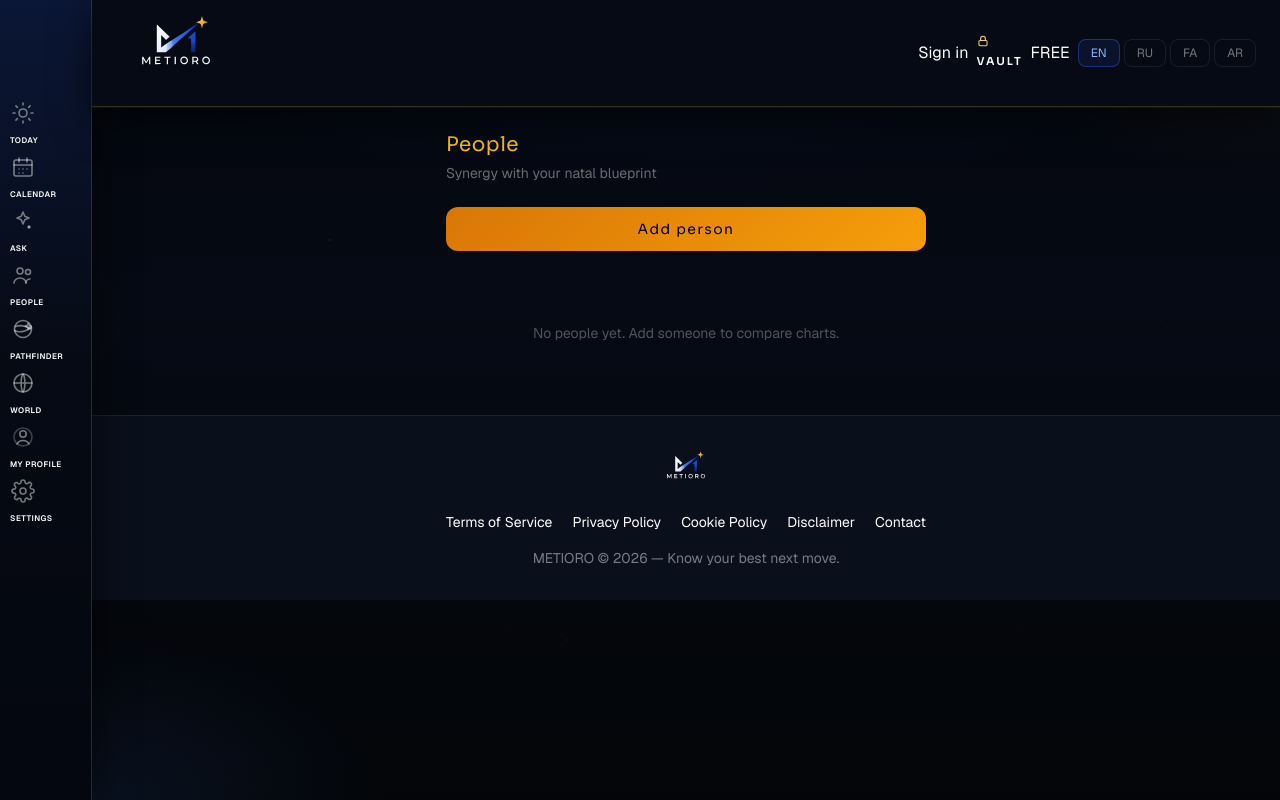
Test: People input integrity › keeps a cleared date as a validation error and does not save 1990-01-15
Click the button "Add person".
click(686, 229)  # box [446,207,926,251]
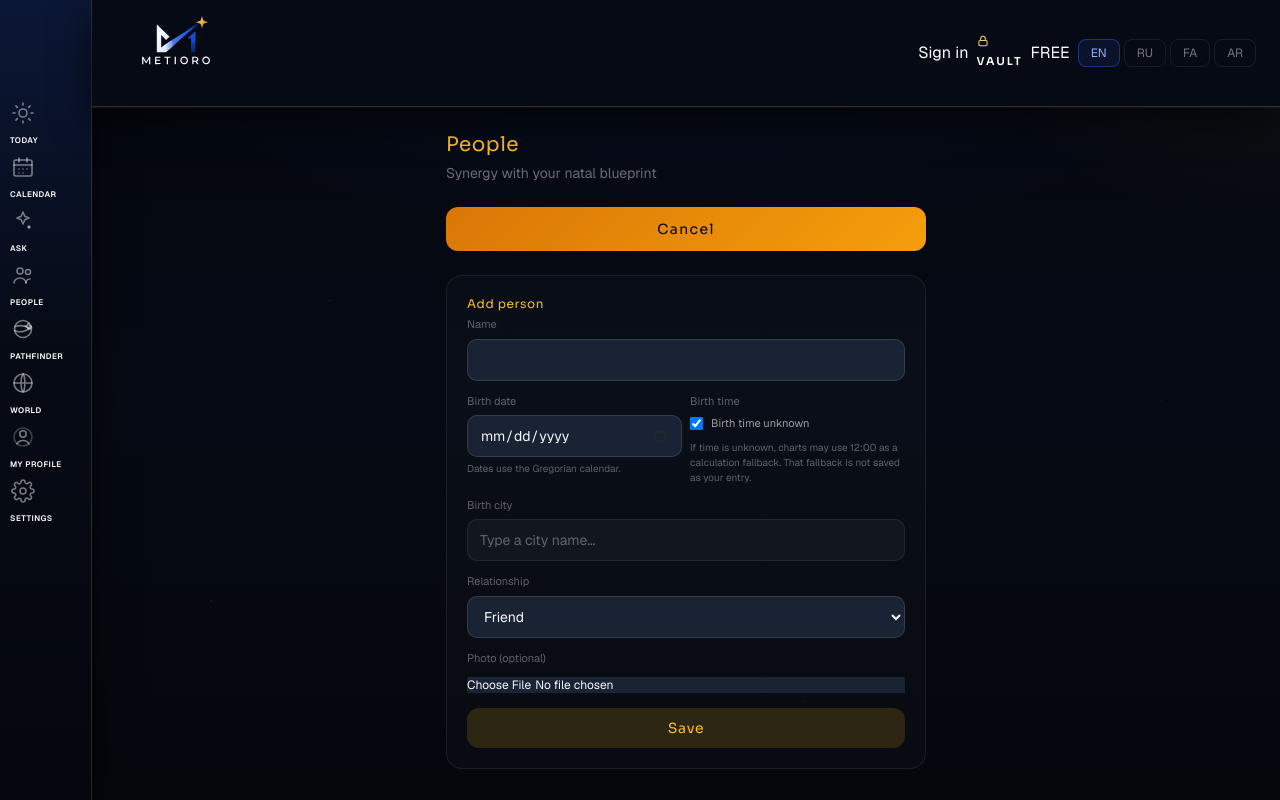
Type "Ada" into the field labelled "Name".
click(686, 360); type("Ada")  # box [467,338,905,380]
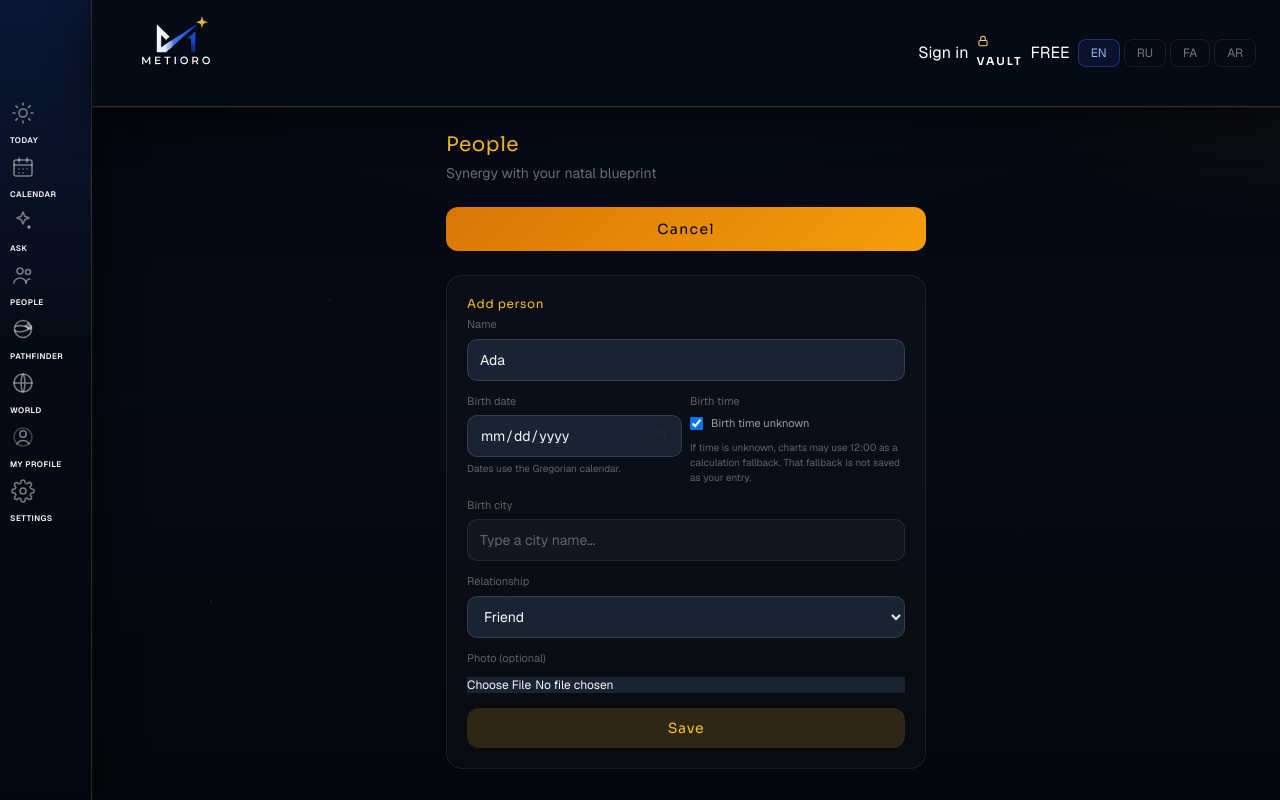
Type "London" into the dropdown with placeholder "Type a city name…".
click(686, 540); type("London")  # box [467,519,905,561]
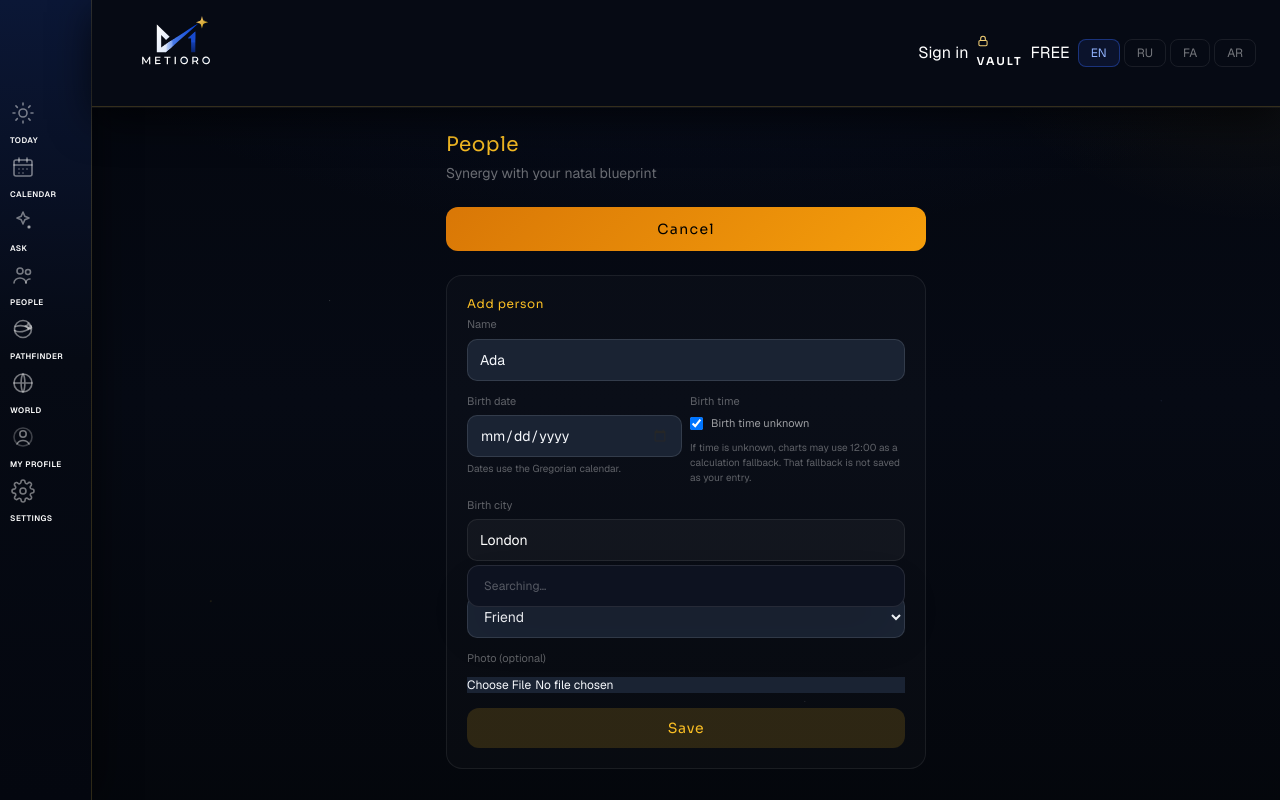
Click the button "Save".
click(686, 728)  # box [467,708,905,748]
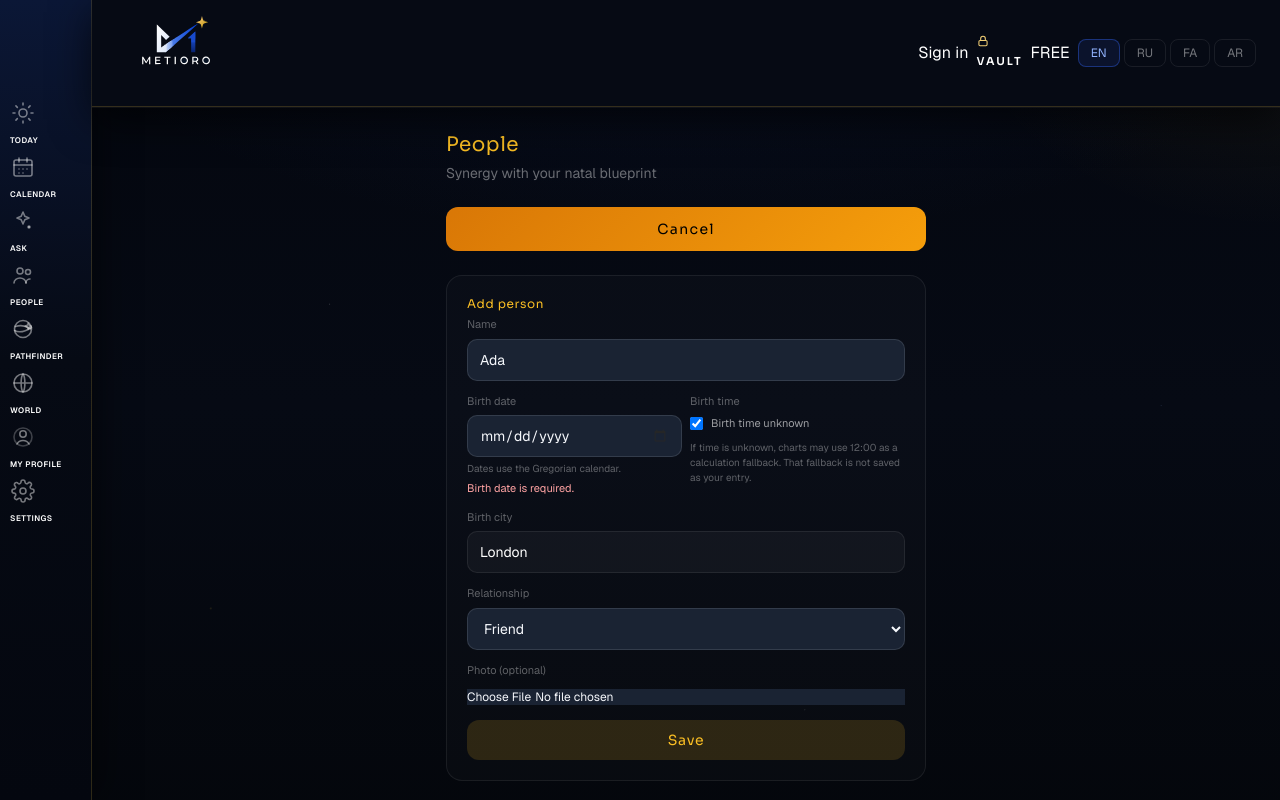
Now the text with test id "people-date-error" reads "Birth date is required.", box [467,481,574,495]
